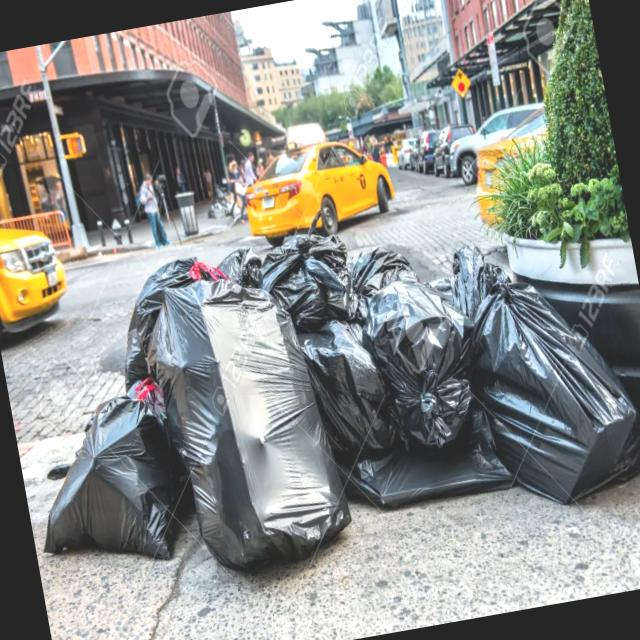garbage: (22, 172, 640, 604)
